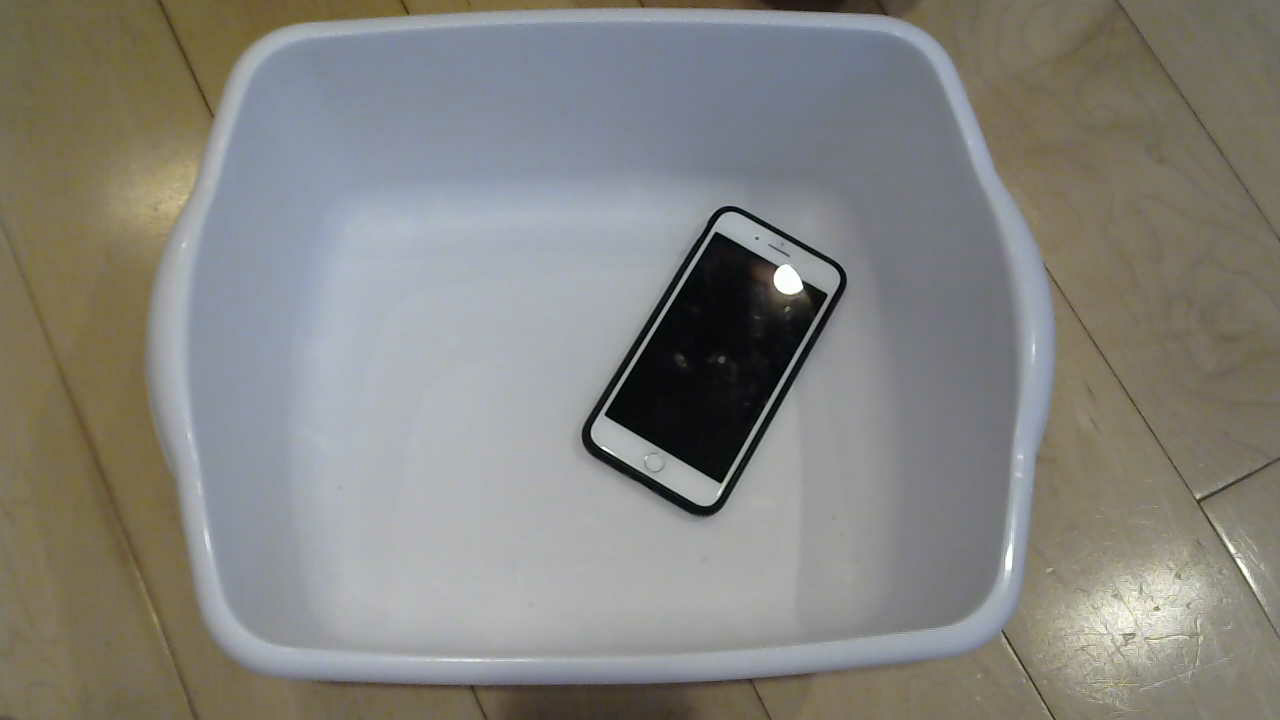phone: (564, 184, 859, 524)
